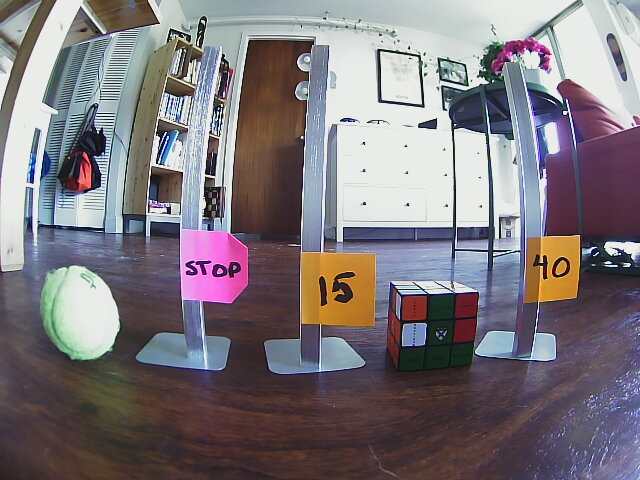15: (303, 256, 373, 324)
40: (527, 238, 577, 303)
ball: (42, 268, 119, 356)
cube: (388, 280, 476, 372)
stop: (180, 233, 246, 299)
